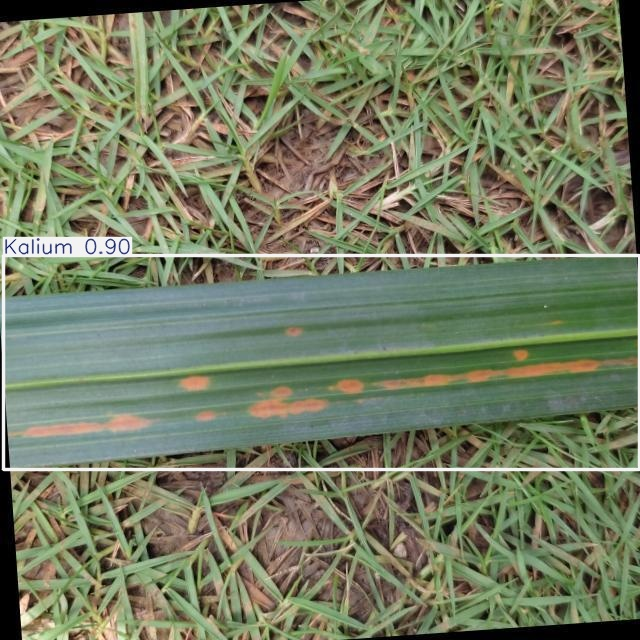Kalium: (3, 255, 640, 469)
